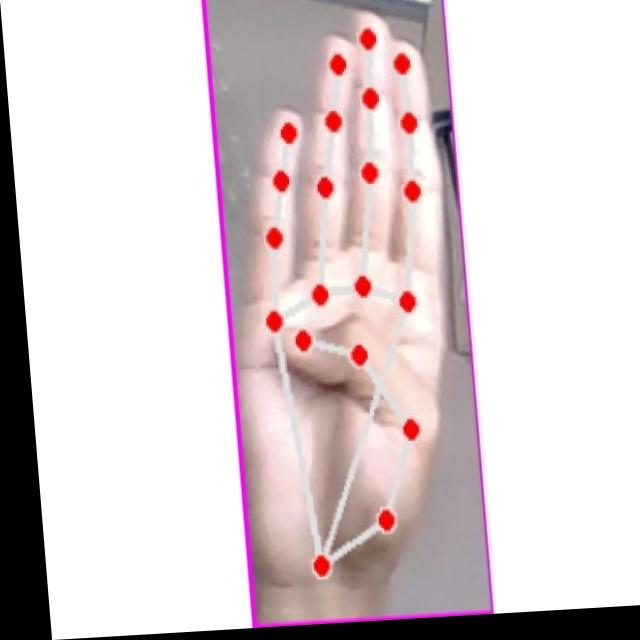B: (218, 15, 468, 598)
